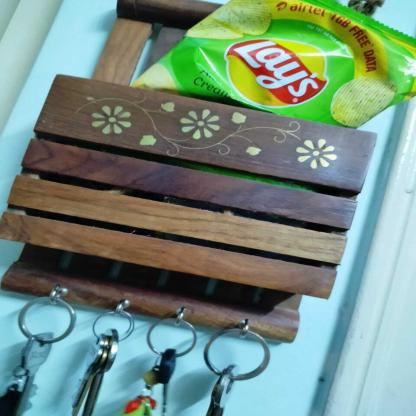cream_and_onion: (133, 2, 411, 132)
